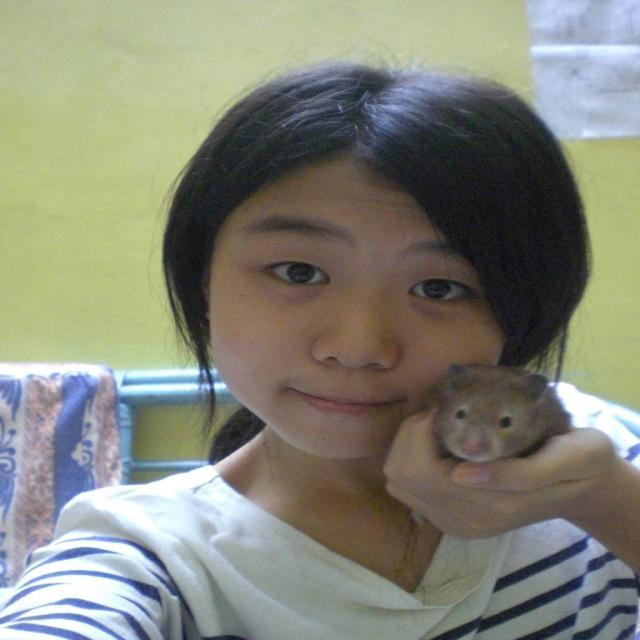rat: (428, 364, 576, 462)
